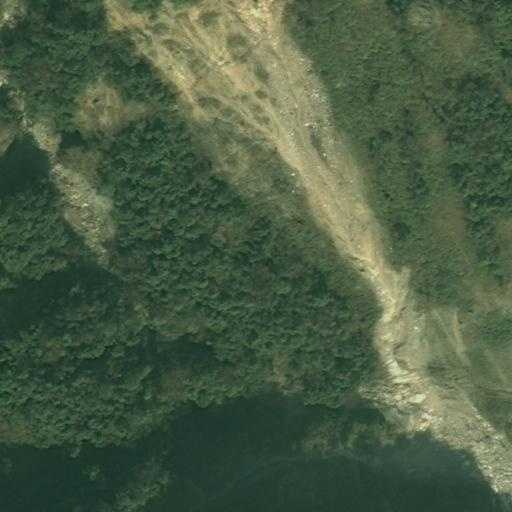landslide: (107, 3, 456, 441)
